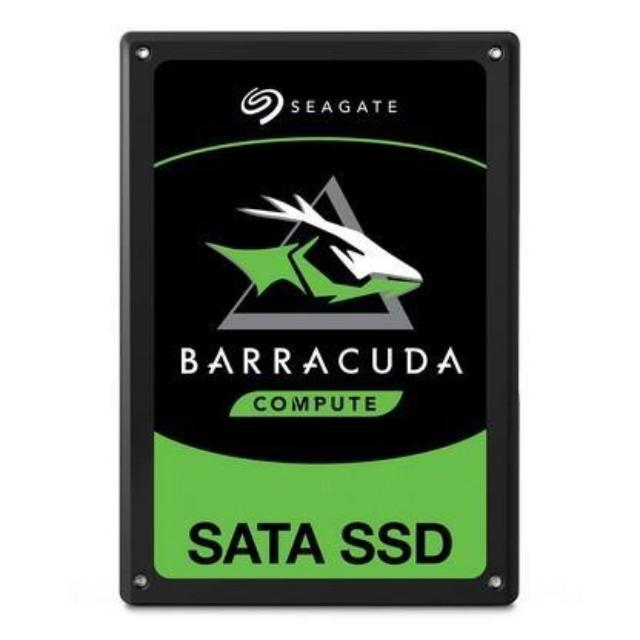DISK: (116, 21, 524, 614)
